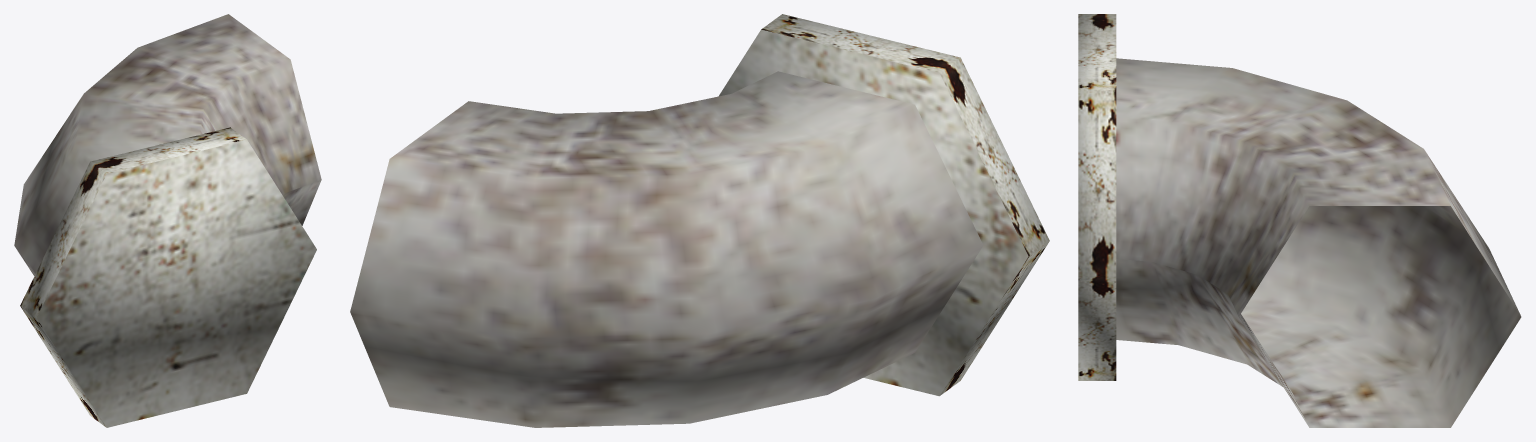
Rendered from large_white_2_elbow_hz.fbx.
The picture shows the model from 3 angles, left to right: view 1: azimuth 30°, elevation 25°; view 2: azimuth 150°, elevation 25°; view 3: azimuth 270°, elevation 25°; orthographic projection. The views are drawn at different scales.
Visible parts, largest first — view 1: polySurface644; view 2: polySurface644; view 3: polySurface644.
Boxes of the visible parts, bbox=[...] form: polySurface644: bbox=[14, 14, 321, 427]; polySurface644: bbox=[350, 14, 1049, 427]; polySurface644: bbox=[1078, 14, 1521, 427].
Size of the model in its own units: 1.65 by 1.13 by 1.57.
